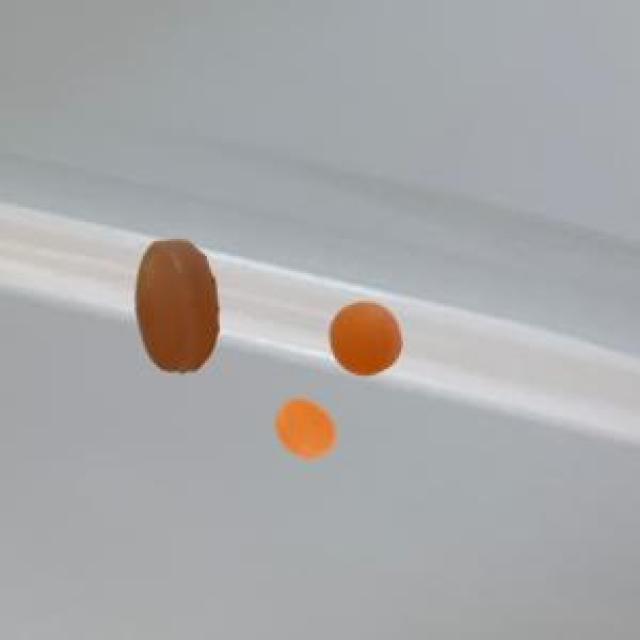Bactidol: (123, 226, 239, 386), (320, 285, 411, 385), (270, 387, 346, 473)
